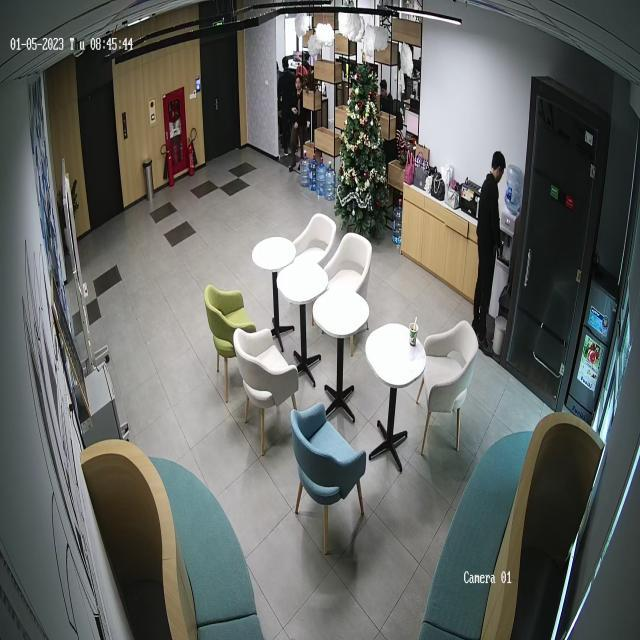person: (472, 151, 507, 351), (277, 58, 297, 160), (290, 68, 308, 170), (381, 80, 394, 114)
